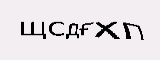Д: (64, 23, 80, 38)
П: (123, 22, 145, 41)
С: (49, 21, 66, 37)
Х: (93, 20, 122, 41)
Щ: (18, 19, 46, 40)
Ғ: (79, 21, 94, 38)
